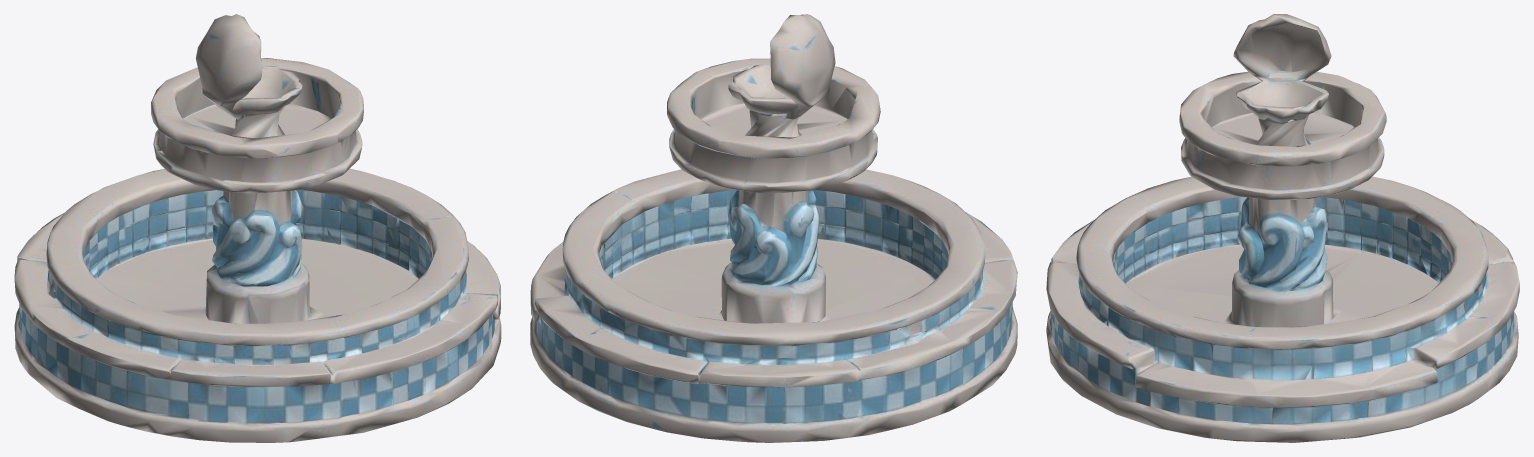
Rendered from fountain_lo.glb.
3 views of the same model, side by side, from view 1: azimuth 30°, elevation 25°; view 2: azimuth 150°, elevation 25°; view 3: azimuth 270°, elevation 25° (orthographic). The views are drawn at different scales.
Size of the model in its own units: 1.9 by 1.41 by 1.9.
Materials: 1 (1 with a texture image).
